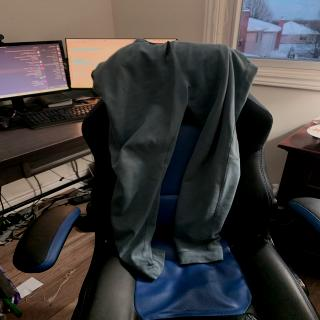Blue Sweatpants: (84, 39, 260, 279)
